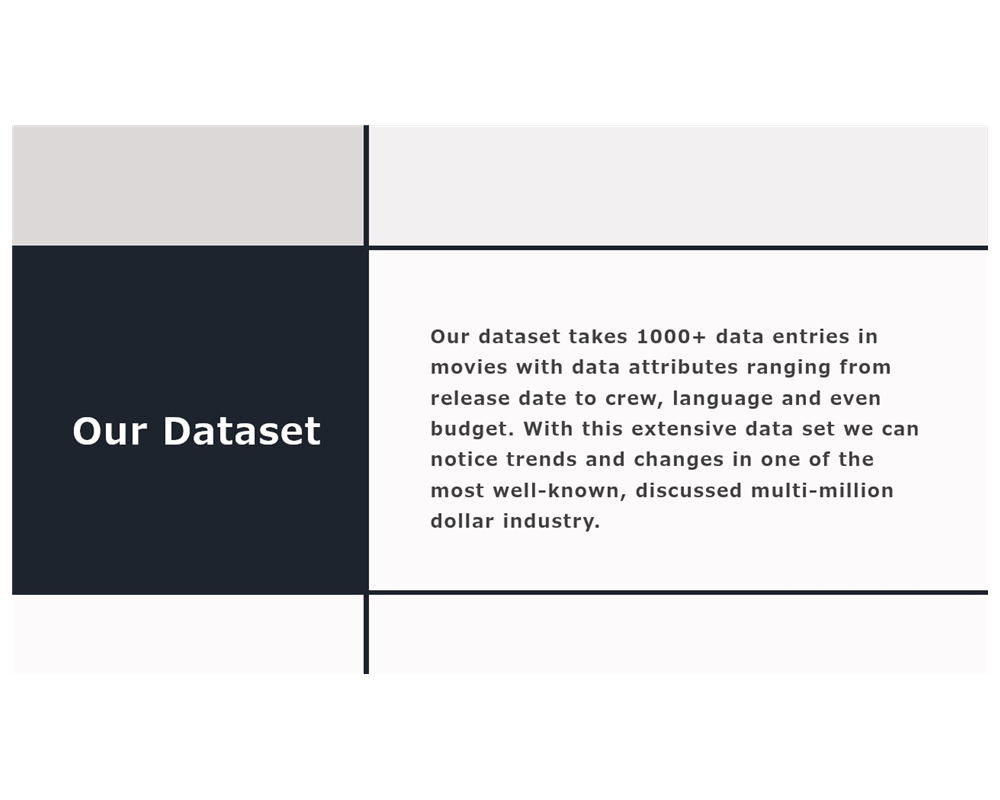

This screenshot's page, from the dashboard's own definition file:
{"tool":"tableau","page":{"name":"DataSet","canvas":[1000,800],"ordinal":2},"visuals":[{"type":"image","param":"C:/Users/WIN/Desktop/Honours/IA/Slide2.jpg","box":[8,8,984,784]}]}

Visuals, with their boxes in screenshot pixels (x1, y1, x2, y2), scaled from the page's 1000x800 canvas onto the 1000x800 screenshot:
image: [left=8, top=8, right=992, bottom=792]
